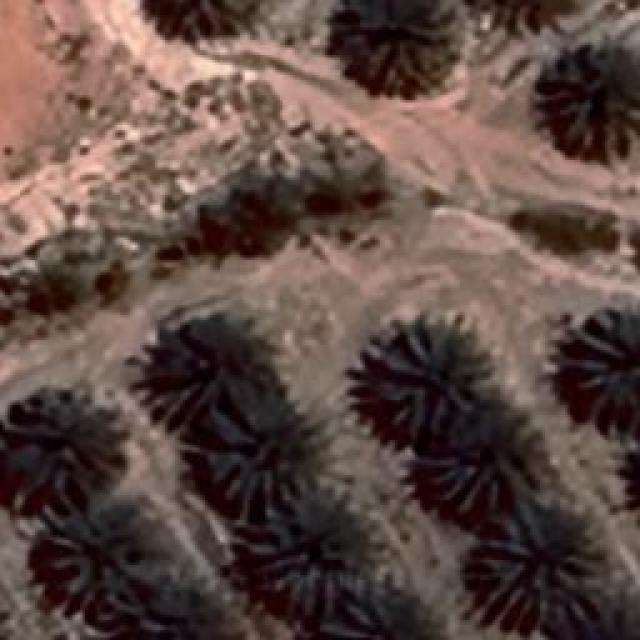PalmTree: (65, 49, 176, 615), (470, 502, 600, 632), (247, 480, 375, 598), (36, 496, 156, 610), (534, 32, 638, 158), (378, 318, 492, 432), (338, 0, 452, 95), (570, 300, 638, 428), (191, 410, 314, 480), (155, 324, 253, 408), (422, 436, 536, 504), (304, 595, 432, 640), (32, 246, 92, 322), (464, 0, 576, 32), (561, 599, 640, 640), (148, 0, 246, 32), (629, 427, 640, 538)
